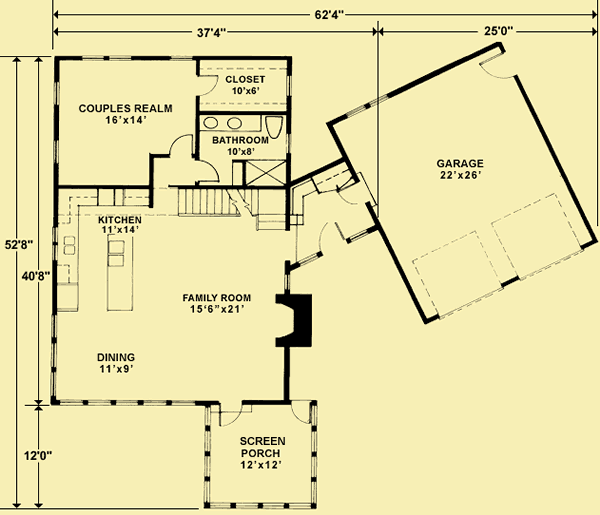door: (475, 50, 515, 81), (317, 218, 345, 260), (191, 157, 221, 184), (165, 132, 196, 157), (217, 400, 243, 427), (194, 72, 219, 100), (287, 401, 313, 427)
kitchen_bar: (105, 231, 133, 314)
stairs: (172, 184, 287, 232)
windows: (49, 312, 58, 400), (76, 53, 133, 63), (51, 135, 62, 166), (50, 224, 59, 260), (51, 79, 62, 105), (283, 72, 293, 95)
